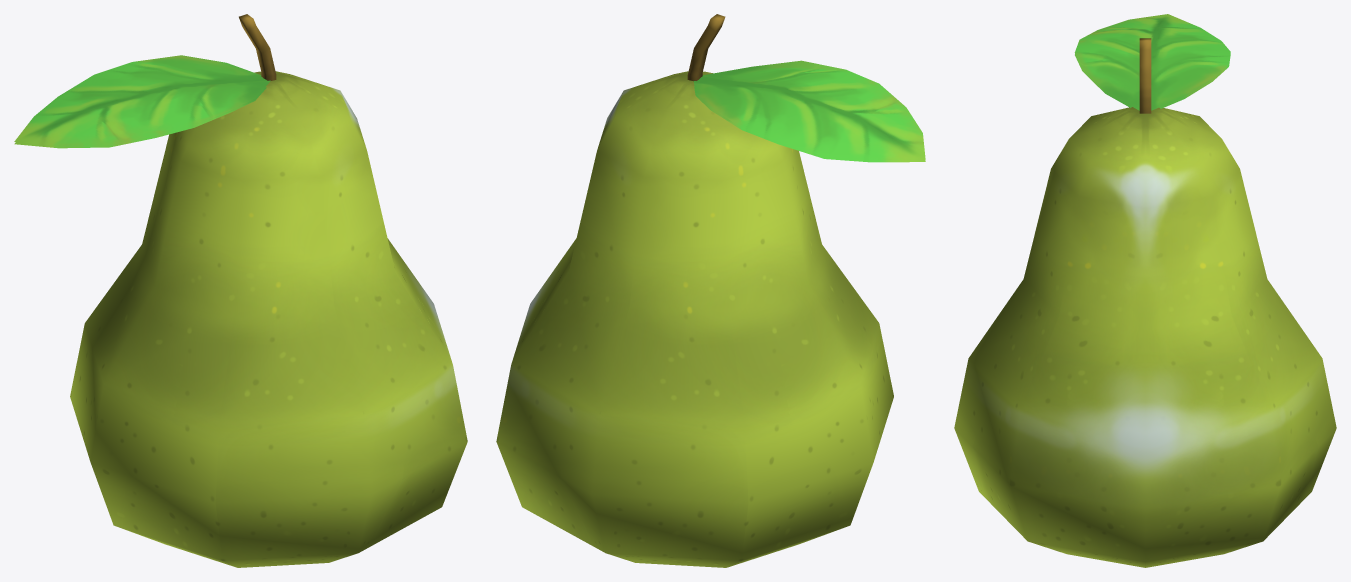
The model's file is pear.fbx.
3 renders of one model, left to right at view 1: azimuth 30°, elevation 25°; view 2: azimuth 150°, elevation 25°; view 3: azimuth 270°, elevation 25°, orthographic. The views are drawn at different scales.
Visible parts, largest first — view 1: pear; view 2: pear; view 3: pear.
Boxes of the visible parts, x1=… form: pear: x1=14, y1=14, x2=467, y2=567; pear: x1=496, y1=14, x2=925, y2=567; pear: x1=954, y1=14, x2=1336, y2=567.
Size of the model in its own units: 2.17 by 2.56 by 1.84.
